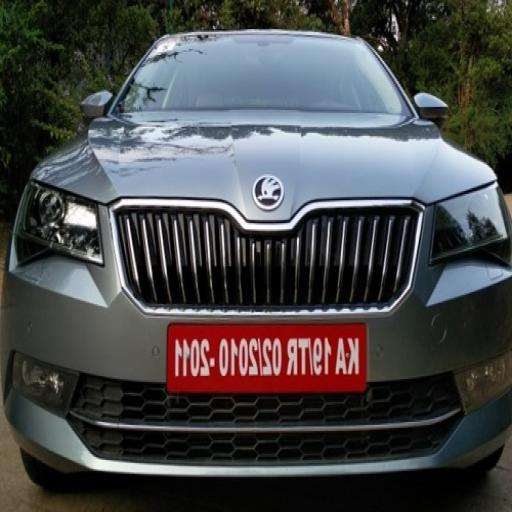License: (166, 319, 370, 396)
